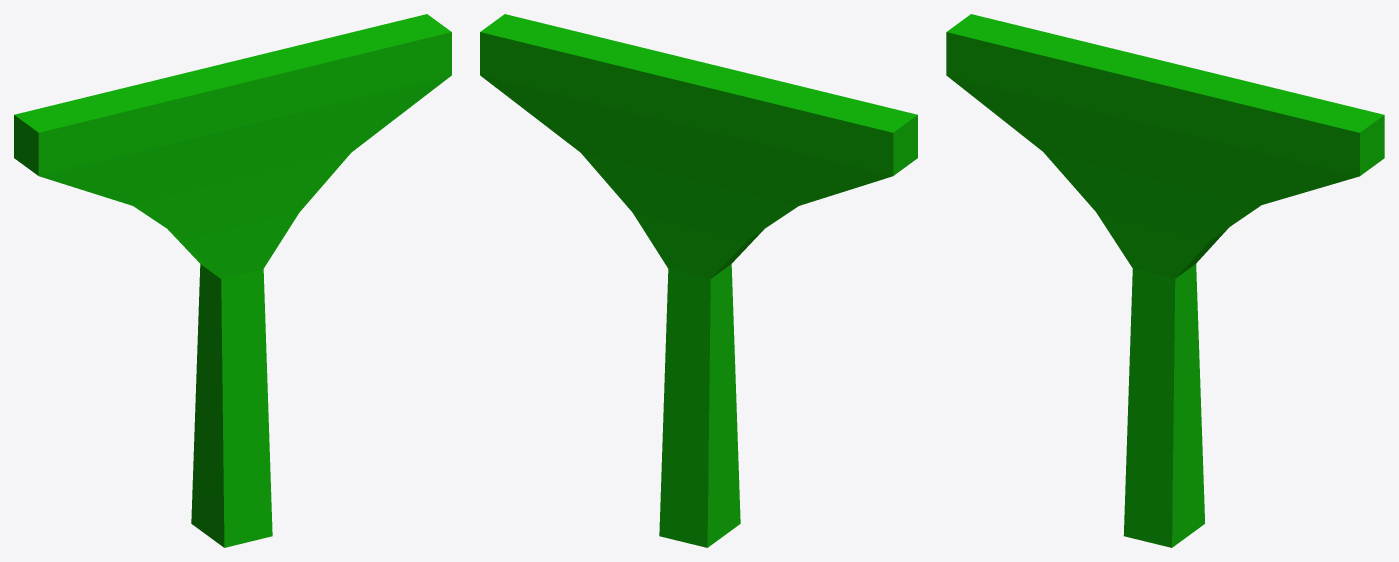
The model's file is DG_ArchSimple_6m_col.FBX.
3 renders of one model, left to right at view 1: azimuth 30°, elevation 25°; view 2: azimuth 150°, elevation 25°; view 3: azimuth 330°, elevation 25°, orthographic.
Parts seen in each view (by area): view 1: DG_ArchSimple_6m_col; view 2: DG_ArchSimple_6m_col; view 3: DG_ArchSimple_6m_col.
Boxes of the visible parts, x1=… form: DG_ArchSimple_6m_col: x1=14, y1=14, x2=451, y2=547; DG_ArchSimple_6m_col: x1=480, y1=14, x2=917, y2=547; DG_ArchSimple_6m_col: x1=946, y1=14, x2=1384, y2=547.
Bounding box in the file's own units: 576 × 608 × 80.
